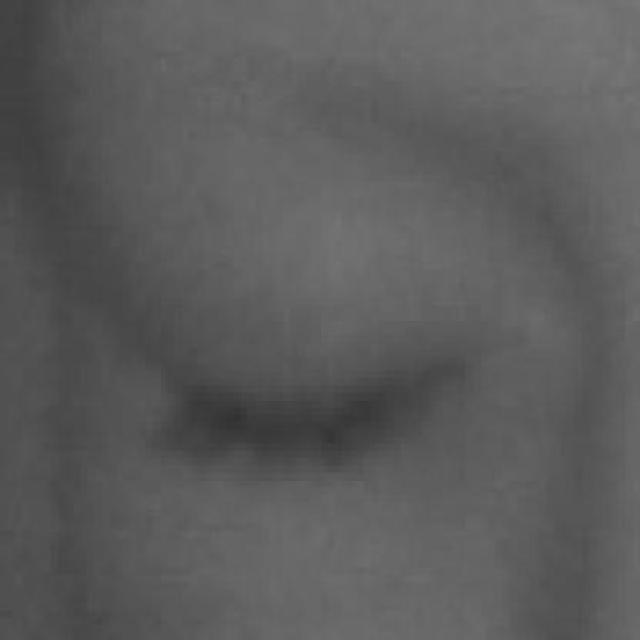drowsy: (161, 221, 485, 617)
